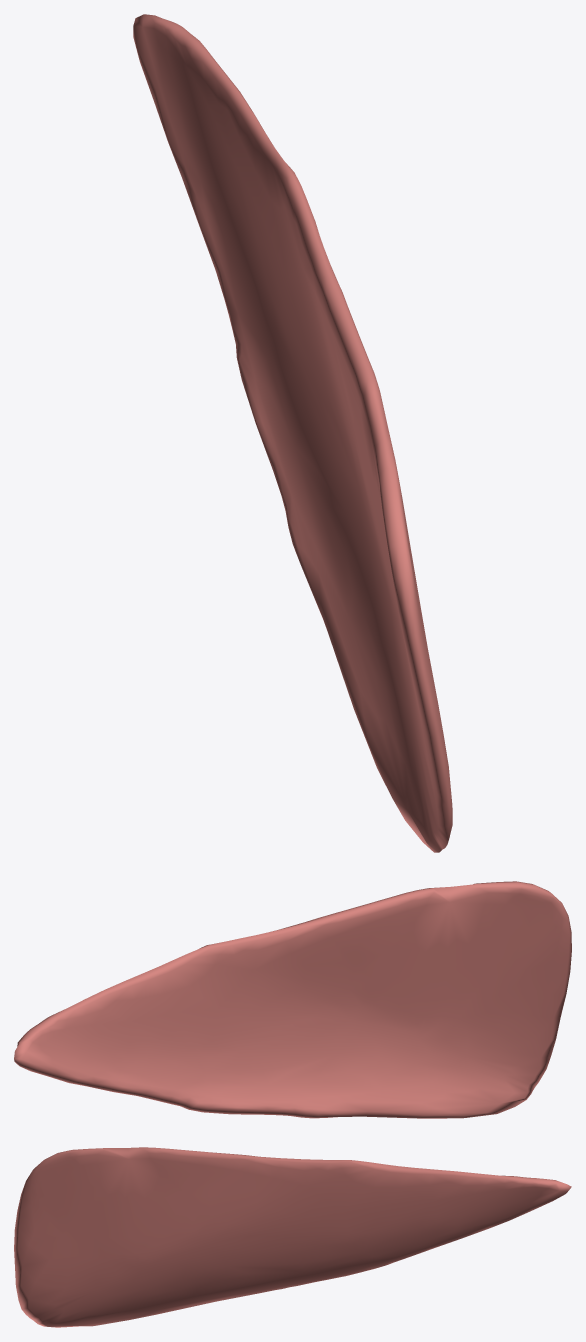
3 views of the same model, one above another, from view 1: azimuth 30°, elevation 25°; view 2: azimuth 150°, elevation 25°; view 3: azimuth 270°, elevation 25° (orthographic). The views are drawn at different scales.
Parts seen in each view (by area): view 1: ZA_4894c853601e7e21; view 2: ZA_4894c853601e7e21; view 3: ZA_4894c853601e7e21.
Boxes of the visible parts, box(x1,y1,x2,y2) form: ZA_4894c853601e7e21: box(133, 14, 452, 852); ZA_4894c853601e7e21: box(14, 881, 571, 1118); ZA_4894c853601e7e21: box(14, 1147, 571, 1327).
Bounding box in the file's own units: 0.00814 × 0.0111 × 0.0271.
